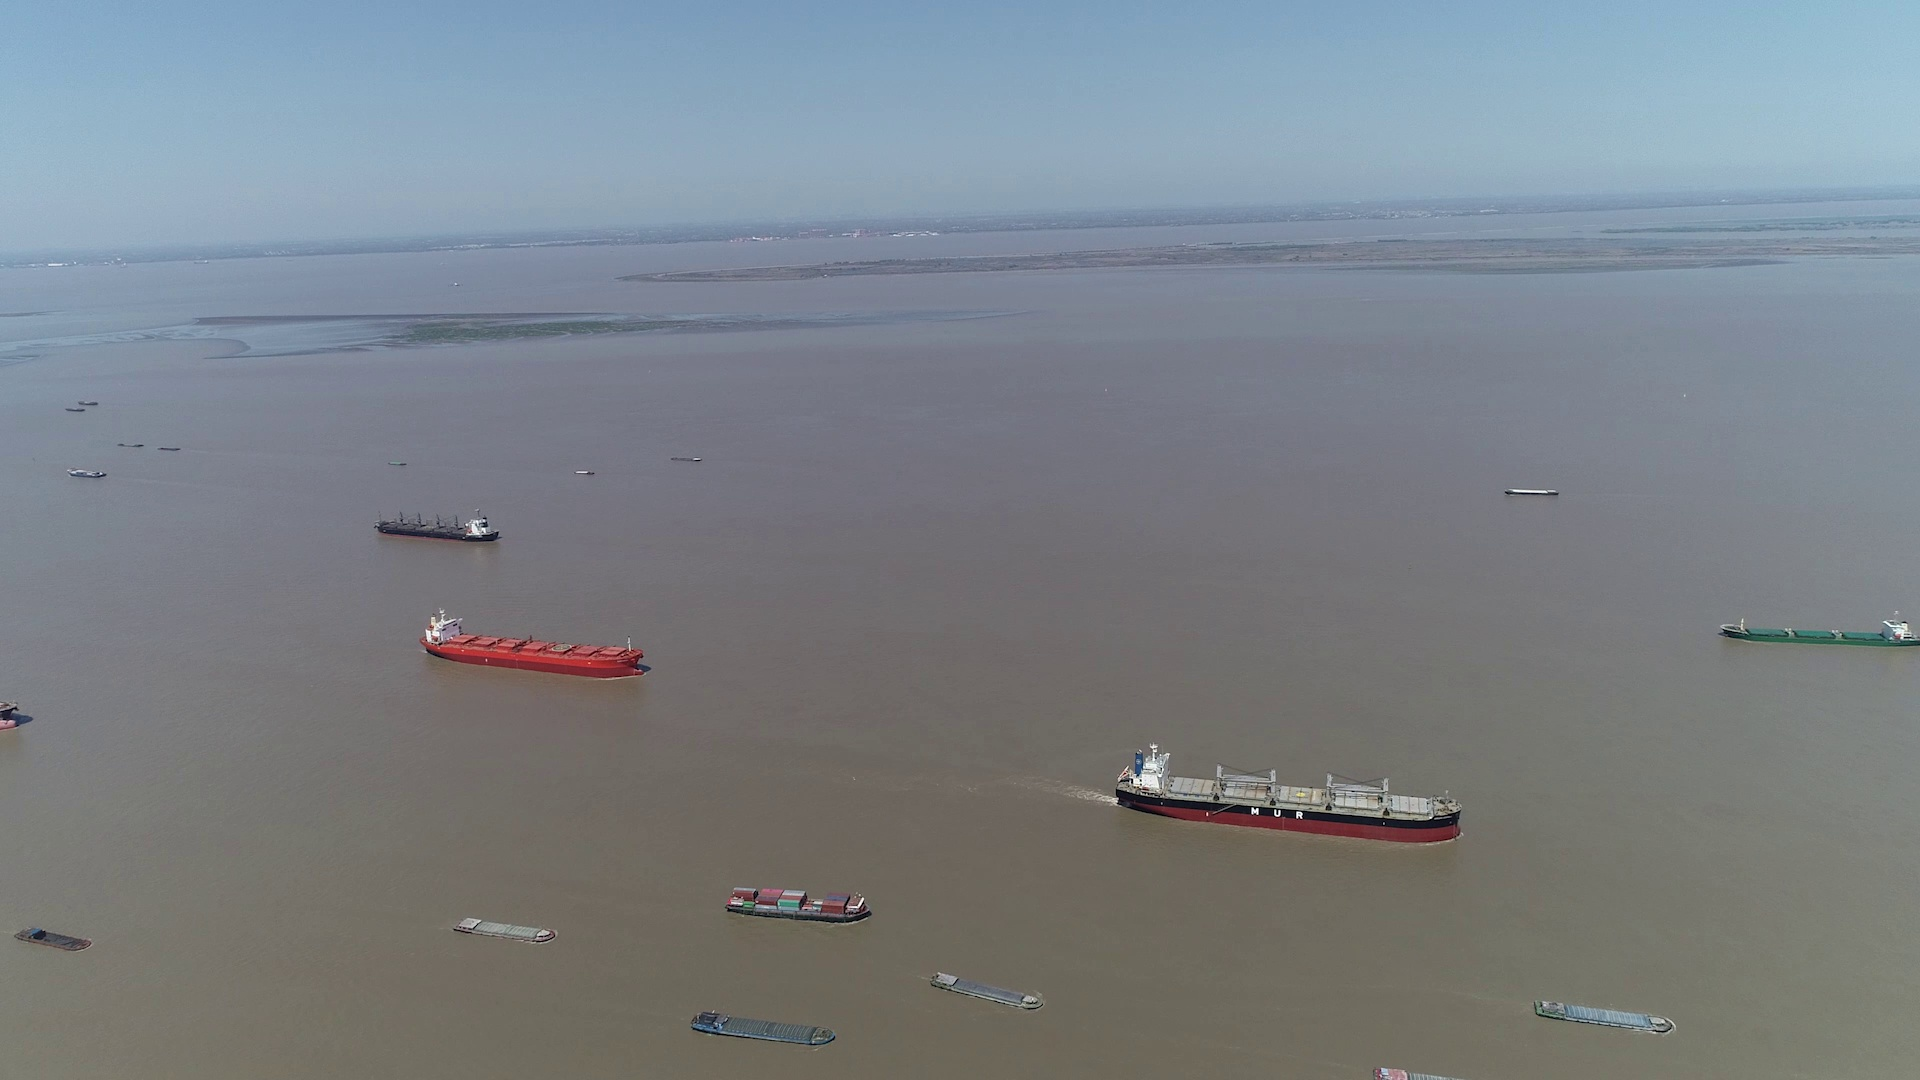ship: (1113, 744, 1464, 843), (419, 608, 646, 676), (1717, 616, 1917, 647), (727, 886, 872, 924), (690, 1011, 835, 1048), (1534, 1000, 1673, 1036), (928, 971, 1044, 1011), (375, 508, 498, 541), (455, 915, 559, 943), (18, 924, 90, 949), (0, 687, 32, 735), (1373, 1065, 1458, 1080), (1505, 487, 1559, 497), (69, 468, 109, 479), (671, 454, 702, 463), (570, 469, 593, 475)
